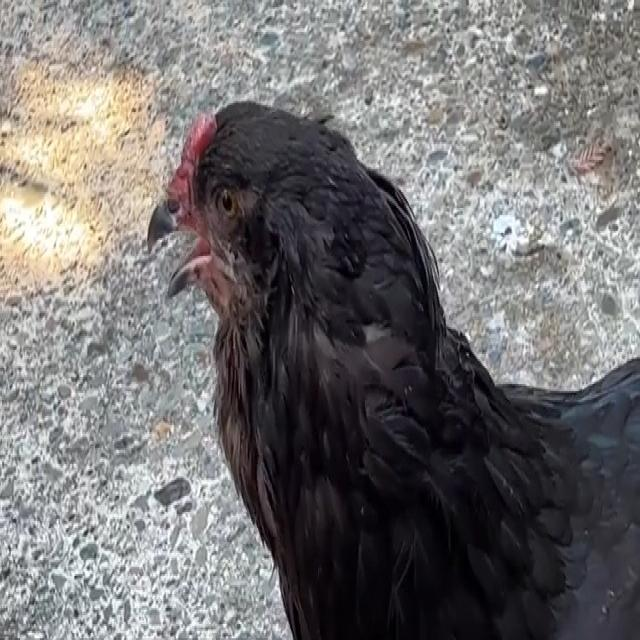Breathing: (146, 96, 638, 636)
